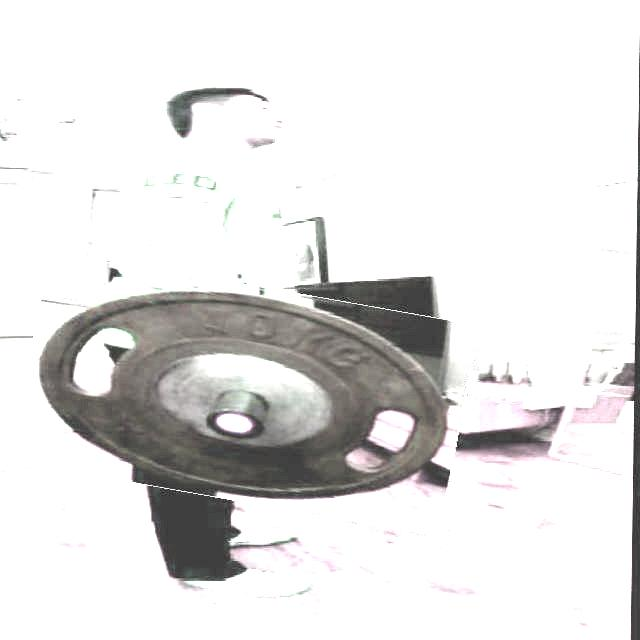barbell: (20, 268, 472, 519)
